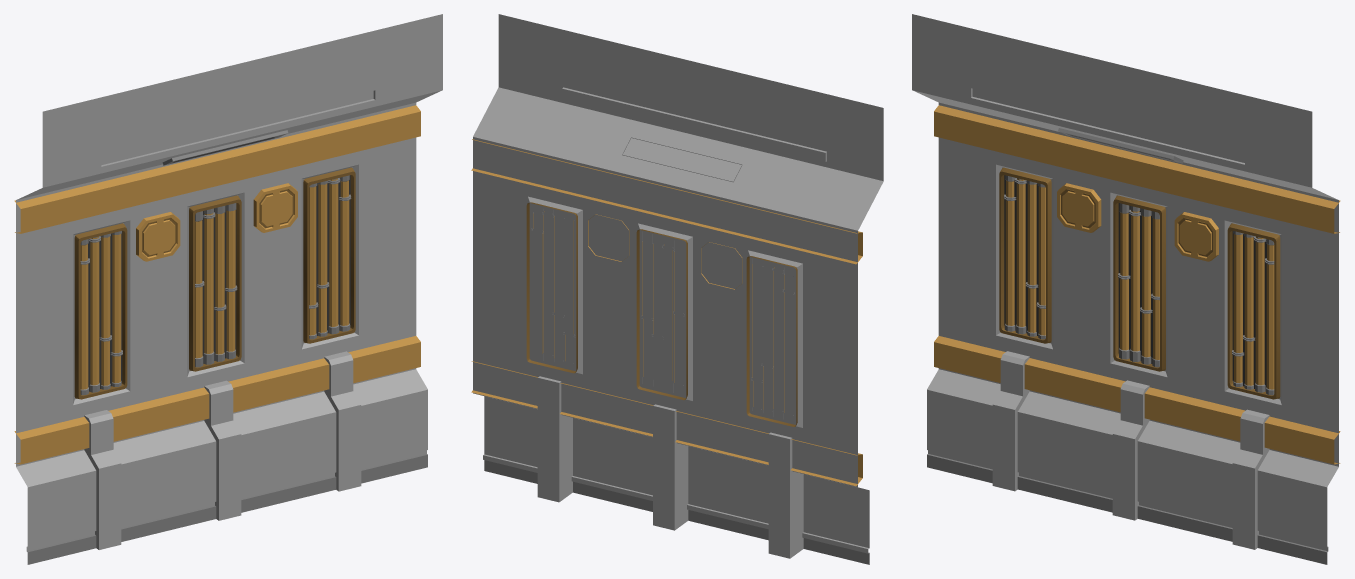
Rendered from Wall_2.gltf.
3 views of the same model, side by side, from view 1: azimuth 30°, elevation 25°; view 2: azimuth 150°, elevation 25°; view 3: azimuth 330°, elevation 25° (orthographic). The views are drawn at different scales.
Visible parts, largest first — view 1: Wall_2; view 2: Wall_2; view 3: Wall_2.
Boxes of the visible parts, bbox=[...] form: Wall_2: bbox=[14, 14, 442, 564]; Wall_2: bbox=[471, 14, 883, 564]; Wall_2: bbox=[912, 14, 1340, 564].
Bounding box in the file's own units: 4 × 4.43 × 0.5334.
